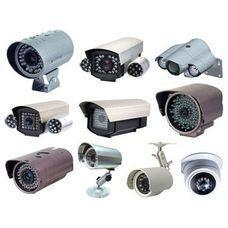CCTV: (6, 29, 77, 93), (6, 29, 74, 95), (155, 84, 224, 138), (79, 35, 149, 84), (5, 147, 73, 195), (156, 37, 223, 81), (78, 99, 150, 139), (127, 142, 174, 198), (4, 100, 74, 137), (77, 143, 122, 199), (179, 151, 222, 196)
